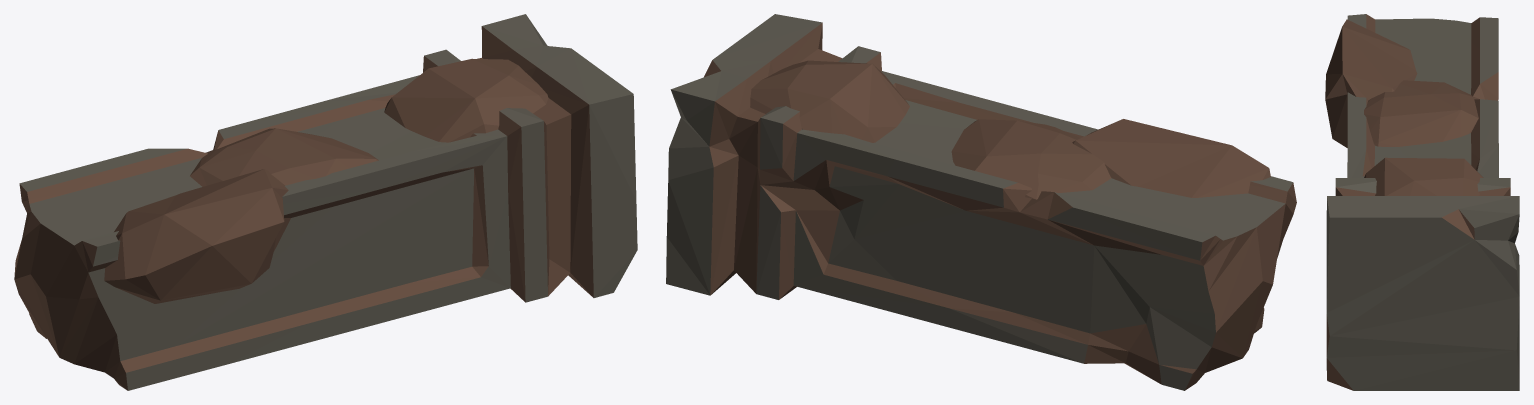
Rendered from synty-prop-pillar-broken-moss-01.gltf.
The picture shows the model from 3 angles, left to right: view 1: azimuth 30°, elevation 25°; view 2: azimuth 150°, elevation 25°; view 3: azimuth 270°, elevation 25°; orthographic projection. The views are drawn at different scales.
Parts seen in each view (by area): view 1: SM_Prop_Pillar_Broken_Moss_01; view 2: SM_Prop_Pillar_Broken_Moss_01; view 3: SM_Prop_Pillar_Broken_Moss_01.
Part boxes in pixels (bbox=[...]): SM_Prop_Pillar_Broken_Moss_01: bbox=[14, 14, 637, 390]; SM_Prop_Pillar_Broken_Moss_01: bbox=[666, 14, 1296, 390]; SM_Prop_Pillar_Broken_Moss_01: bbox=[1325, 14, 1519, 390].
Size of the model in its own units: 1.5 by 0.5161 by 0.5142.
1 material, 1 textured.
